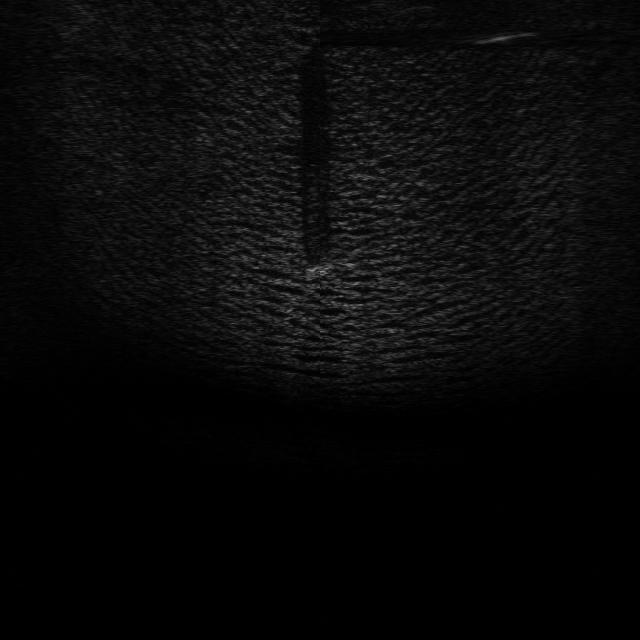cube: (302, 261, 336, 284)
